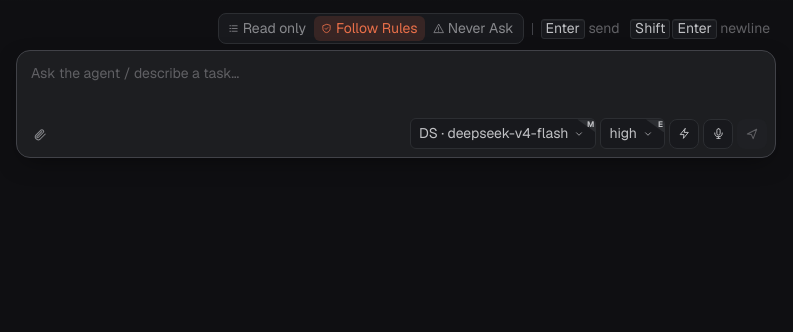
Test case: Composer quick send dropdown › recalls the full message, not the shorthand, after a quick send
Click the button named "Quick send".
click(684, 134)  # box x1=669 y1=119 x2=699 y2=149
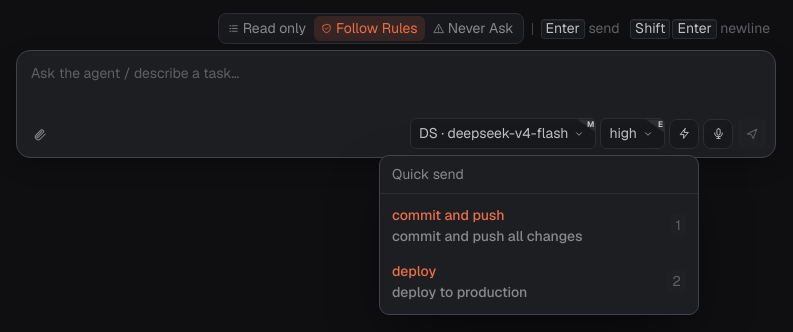
Click the text "commit and push".
click(448, 215)  # box x1=392 y1=206 x2=504 y2=224
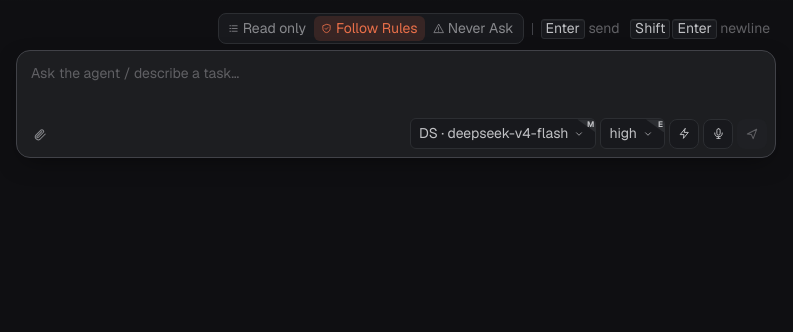
Press ArrowUp in the text box, box x1=17 y1=51 x2=775 y2=112
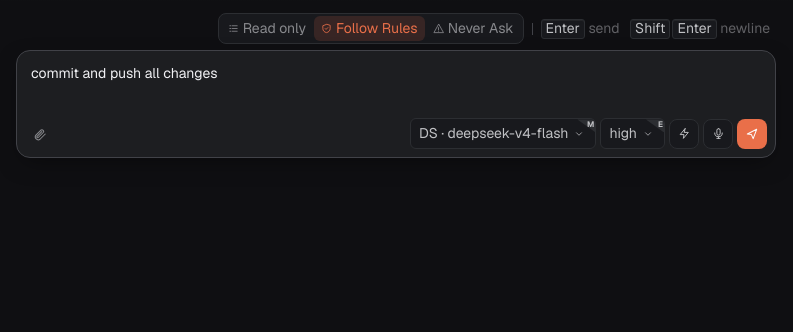
Expected: the text box holds "commit and push all changes", x1=17 y1=51 x2=775 y2=112
